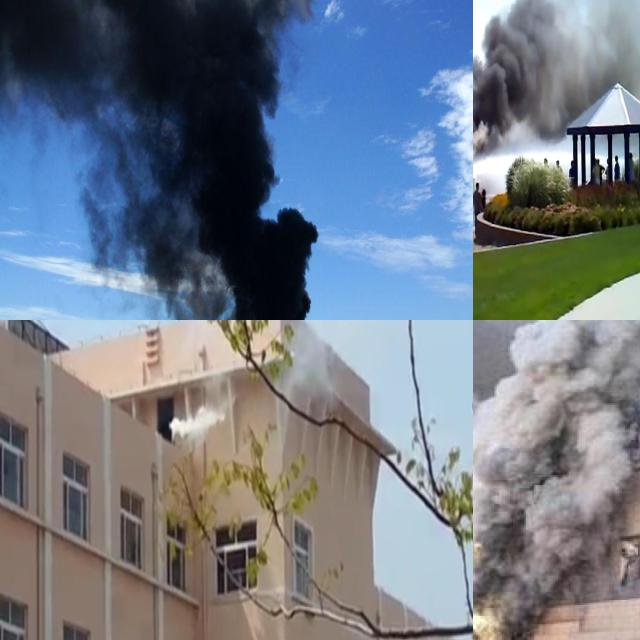smoke: (0, 0, 321, 320), (473, 320, 640, 638), (473, 0, 640, 132), (168, 360, 236, 449), (287, 324, 334, 408)
